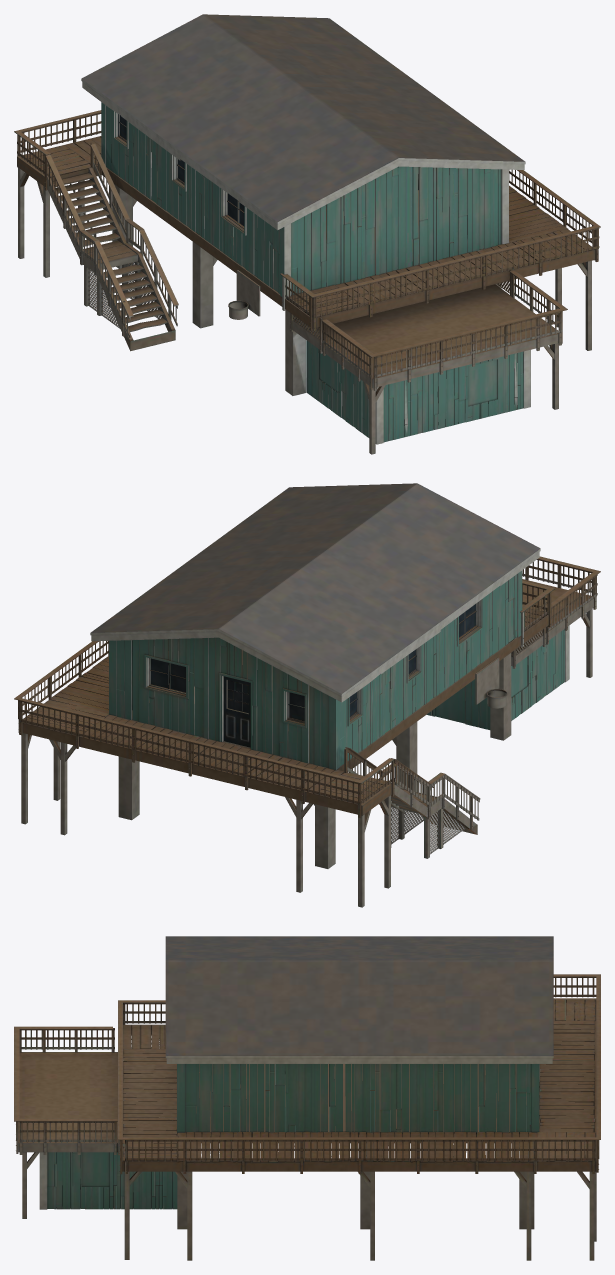
The model's file is jason_house.glb.
The picture shows the model from 3 angles, top to bottom: view 1: azimuth 30°, elevation 25°; view 2: azimuth 150°, elevation 25°; view 3: azimuth 270°, elevation 25°; orthographic projection. The views are drawn at different scales.
Visible parts, largest first — view 1: JasonHouse; view 2: JasonHouse; view 3: JasonHouse.
Boxes of the visible parts, box(x1,y1,x2,y2) form: JasonHouse: box(14, 14, 600, 454); JasonHouse: box(14, 483, 600, 907); JasonHouse: box(14, 936, 600, 1260).
Bounding box in the file's own units: 11.19 × 7.16 × 16.75.
Materials: 1 (1 with a texture image).
